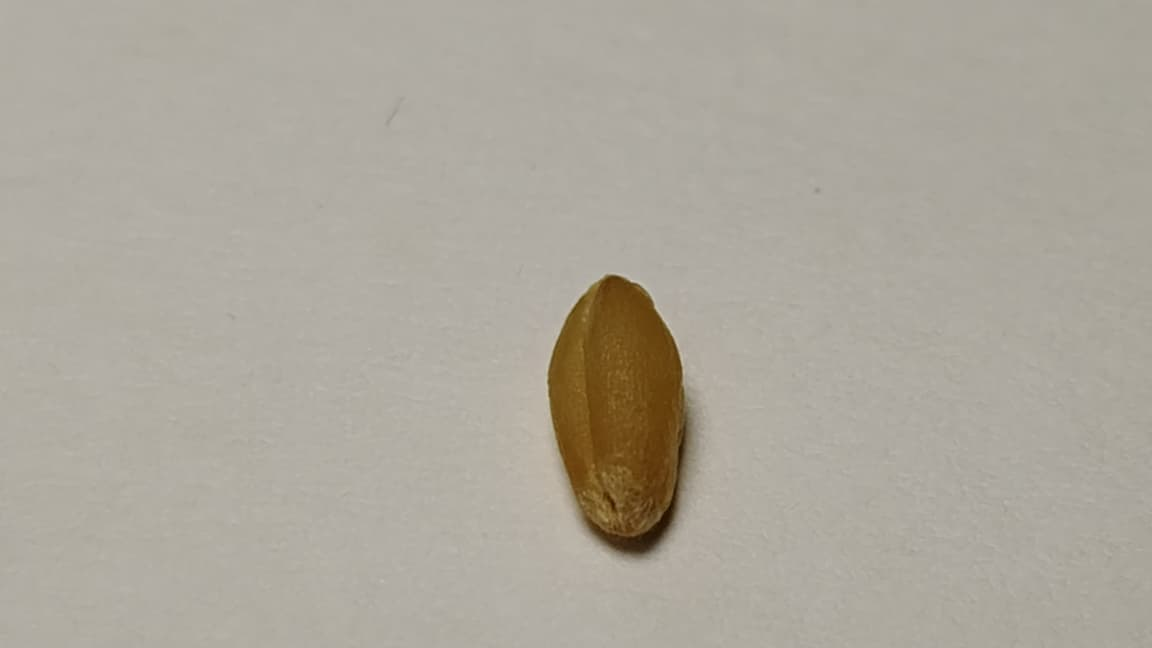healthy: (549, 277, 681, 535)
